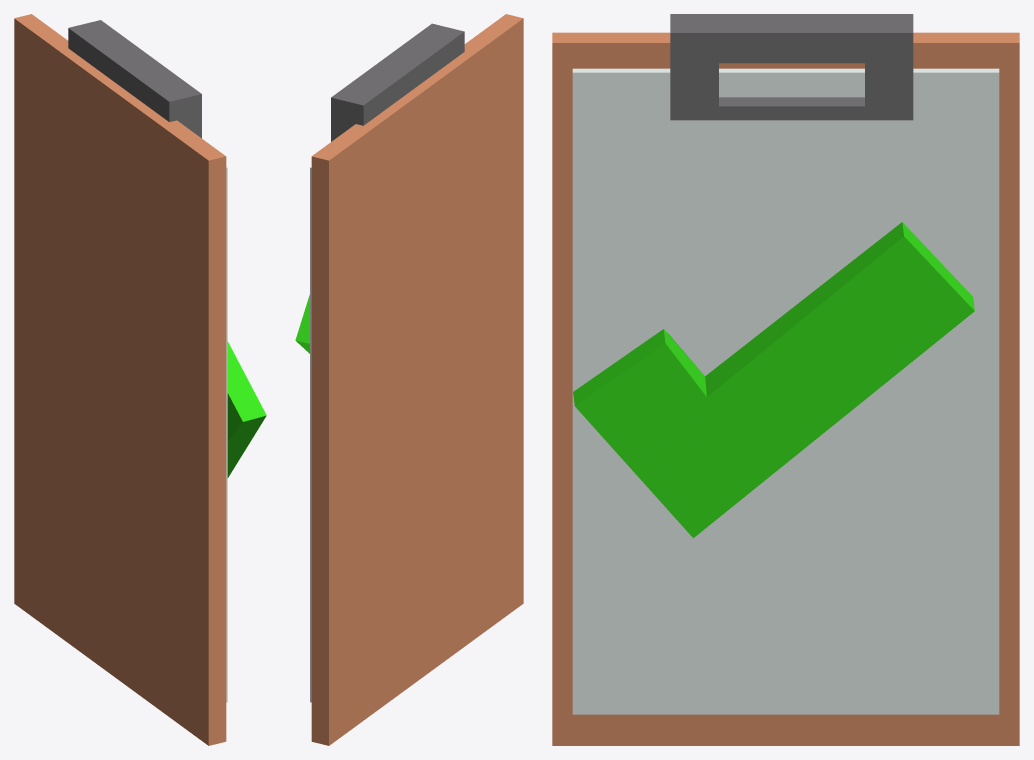
Rendered from Tasks.fbx.
3 views of the same model, side by side, from view 1: azimuth 30°, elevation 25°; view 2: azimuth 150°, elevation 25°; view 3: azimuth 270°, elevation 25° (orthographic). The views are drawn at different scales.
Visible parts, largest first — view 1: Tasks, Cube.006, Cube.004, Cube.002; view 2: Tasks, Cube.006, Cube.002, Cube.004; view 3: Cube.002, Cube.004, Tasks, Cube.006.
Part boxes in pixels (x1,y1,x2,y2): Tasks: (14, 14, 226, 745); Cube.006: (68, 20, 201, 138); Cube.004: (227, 341, 266, 477); Cube.002: (226, 167, 227, 702); Tasks: (311, 14, 523, 745); Cube.006: (331, 23, 464, 141); Cube.002: (310, 167, 311, 702); Cube.004: (295, 294, 309, 353); Cube.002: (572, 68, 999, 714); Cube.004: (573, 222, 974, 538); Tasks: (552, 32, 1019, 745); Cube.006: (670, 14, 913, 120).
Bounding box in the file's own units: 47.87 × 374 × 218.
